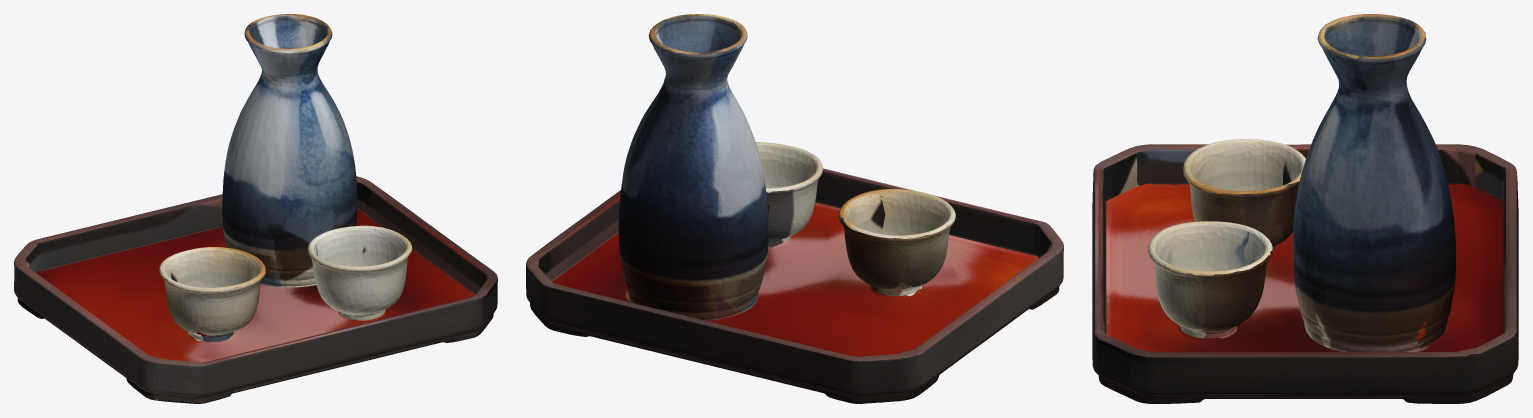
File: traveler_env_coast_hida_siege_serving_tray_00001_.glb
3 renders of one model, left to right at view 1: azimuth 30°, elevation 25°; view 2: azimuth 150°, elevation 25°; view 3: azimuth 270°, elevation 25°, orthographic. The views are drawn at different scales.
Visible parts, largest first — view 1: temp_mesh.ply; view 2: temp_mesh.ply; view 3: temp_mesh.ply.
Part boxes in pixels (bbox=[...]): temp_mesh.ply: bbox=[14, 14, 497, 403]; temp_mesh.ply: bbox=[526, 14, 1063, 403]; temp_mesh.ply: bbox=[1092, 14, 1518, 403].
Size of the model in its own units: 1.97 by 1.3 by 1.66.
Materials: 1 (1 with a texture image).
